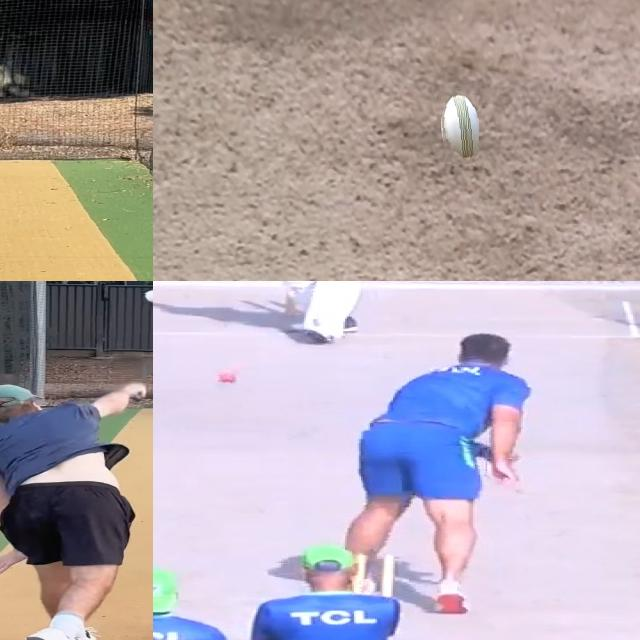Cricket ball: (440, 88, 480, 164), (215, 370, 240, 384), (141, 287, 153, 306)
